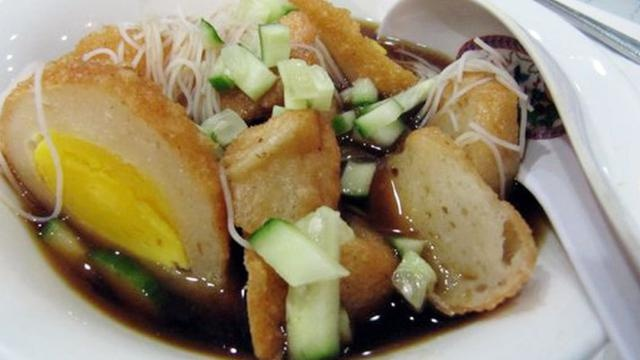pempek: (2, 2, 537, 353)
